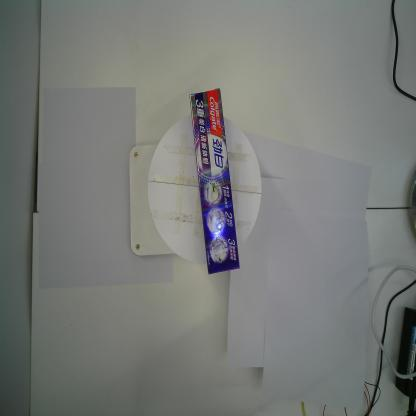Personal Hygiene: (188, 84, 242, 278)
